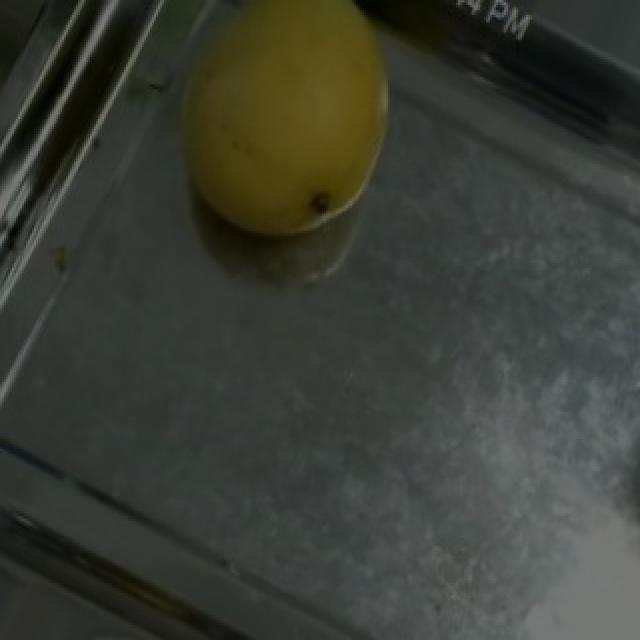fruit: (126, 0, 458, 283)
